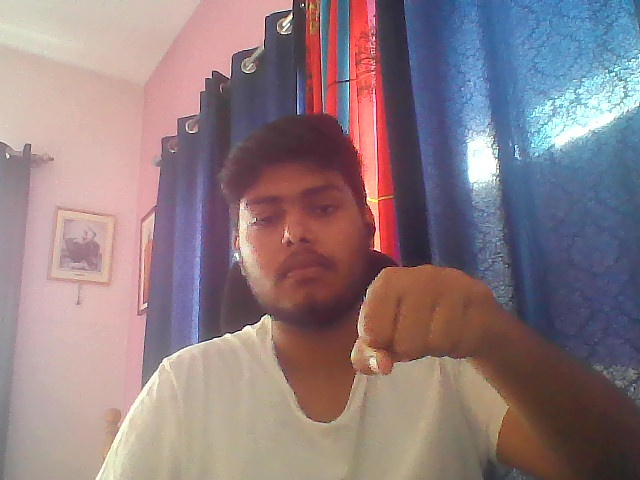Yes: (344, 250, 519, 384)
